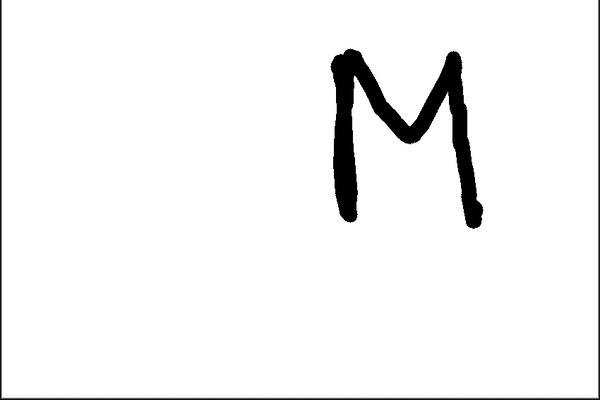M: (324, 42, 485, 232)
